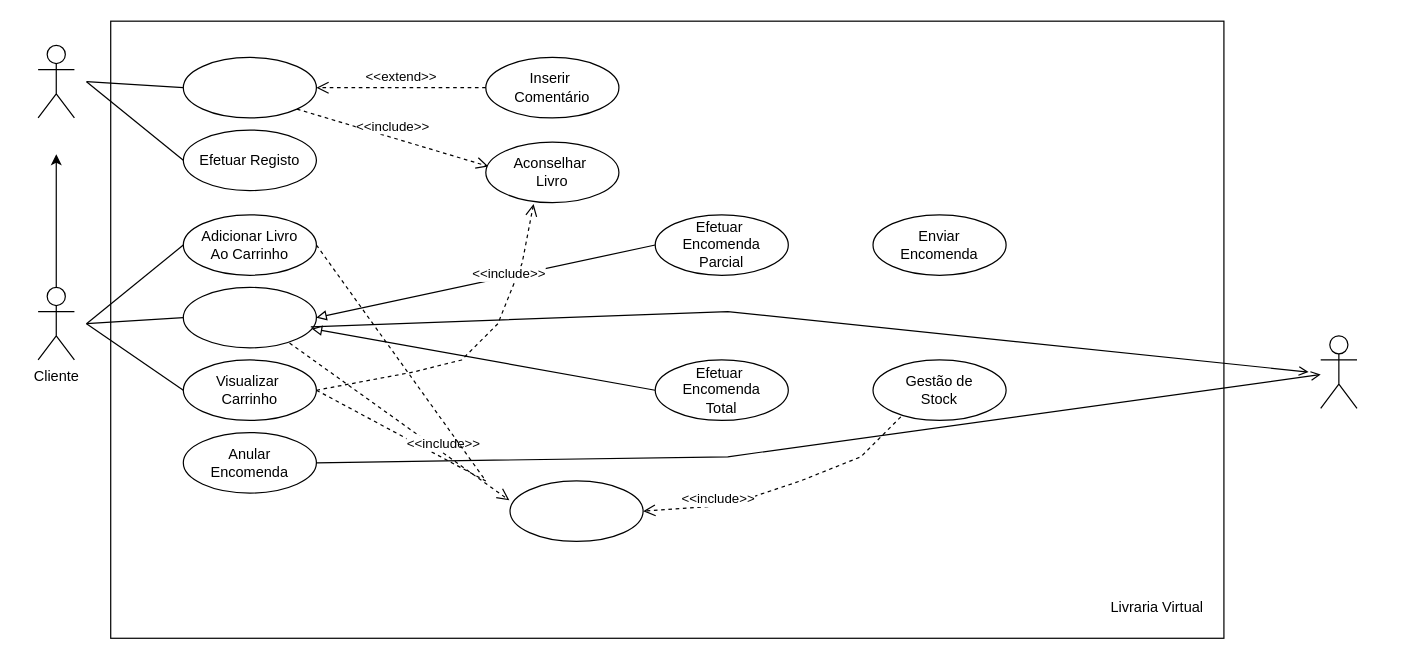
Some shapes in this 1418 by 659 pixel diagram are drawn without their labels. Each missing label, with the box of its shape:
Cibernauta: (37, 44, 74, 118)
Consultar Livro: (182, 56, 316, 118)
Departamento de Aprovisionamento: (1320, 335, 1357, 408)
Efetuar Encomenda: (182, 286, 316, 348)
Validar Acesso: (509, 480, 643, 541)
